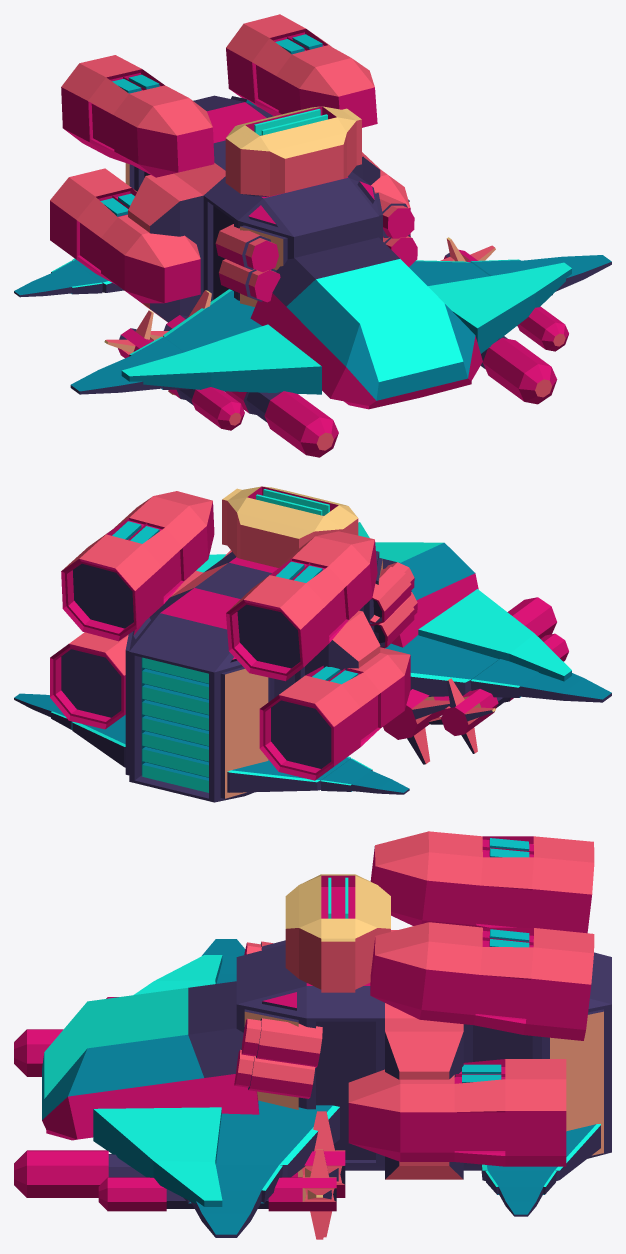
Rendered from SpaceShip1.fbx.
The picture shows the model from 3 angles, top to bottom: view 1: azimuth 30°, elevation 25°; view 2: azimuth 150°, elevation 25°; view 3: azimuth 270°, elevation 25°; orthographic projection. The views are drawn at different scales.
Visible parts, largest first — view 1: MainParts.001, GlowingParts.001; view 2: MainParts.001, GlowingParts.001; view 3: MainParts.001, GlowingParts.001.
Part boxes in pixels (x1,y1,x2,y2): MainParts.001: (14, 14, 611, 457); GlowingParts.001: (100, 34, 327, 216); MainParts.001: (14, 486, 611, 802); GlowingParts.001: (112, 489, 358, 684); MainParts.001: (14, 831, 611, 1239); GlowingParts.001: (328, 838, 529, 1083).
Bounding box in the file's own units: 1159 × 513 × 990.
8 materials, 8 textured.
